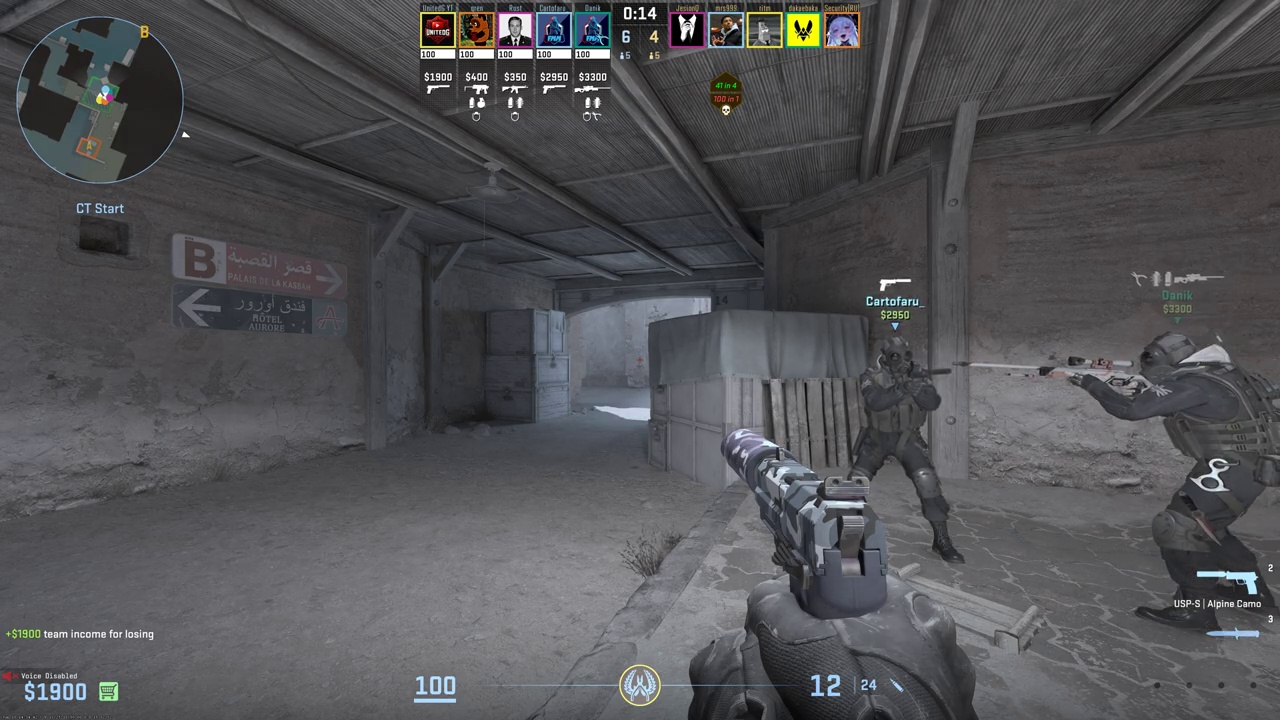CT: (1133, 331, 1279, 623), (846, 336, 961, 565)
